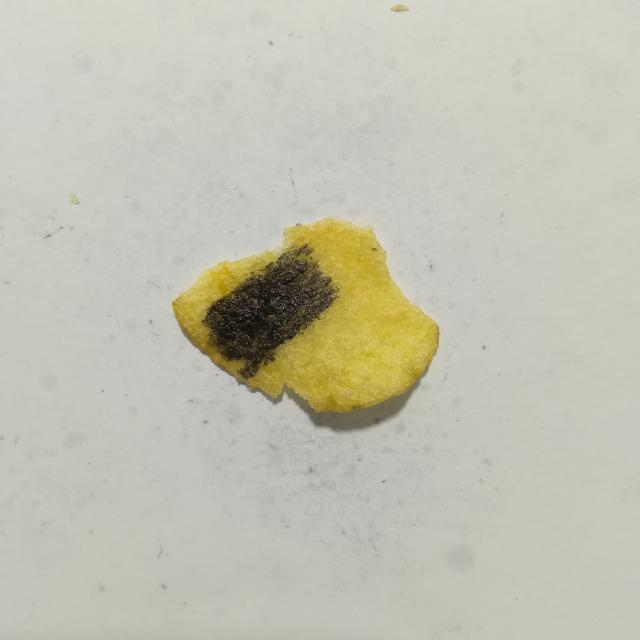chip: (173, 218, 439, 412)
damaged: (203, 244, 337, 380)
